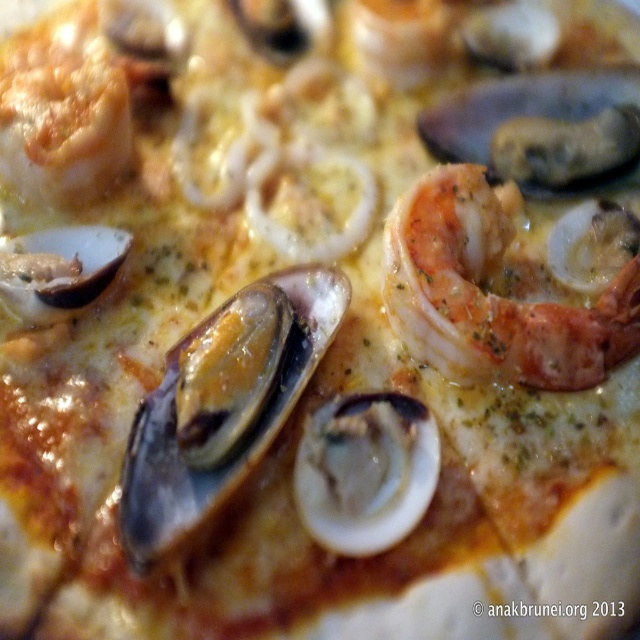Shrimp: (378, 151, 636, 393)
